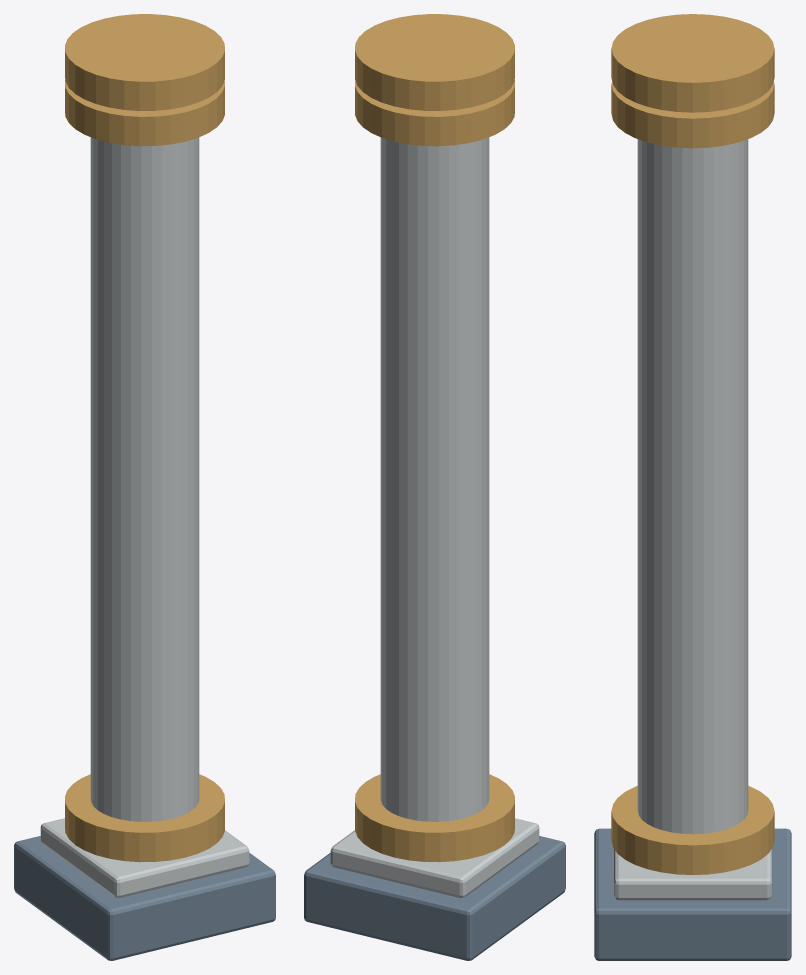
Rendered from SM_Column.fbx.
The picture shows the model from 3 angles, left to right: view 1: azimuth 30°, elevation 25°; view 2: azimuth 150°, elevation 25°; view 3: azimuth 270°, elevation 25°; orthographic projection.
Parts seen in each view (by area): view 1: SM_Column; view 2: SM_Column; view 3: SM_Column.
Part boxes in pixels (x1,y1,x2,y2): SM_Column: (14, 14, 275, 960); SM_Column: (304, 14, 565, 960); SM_Column: (594, 14, 791, 960).
Bounding box in the file's own units: 150 × 150 × 732.
